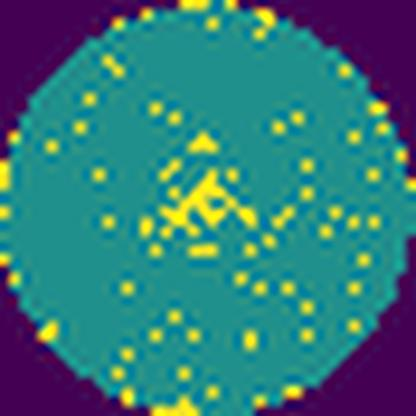Center: (152, 169, 262, 243)
